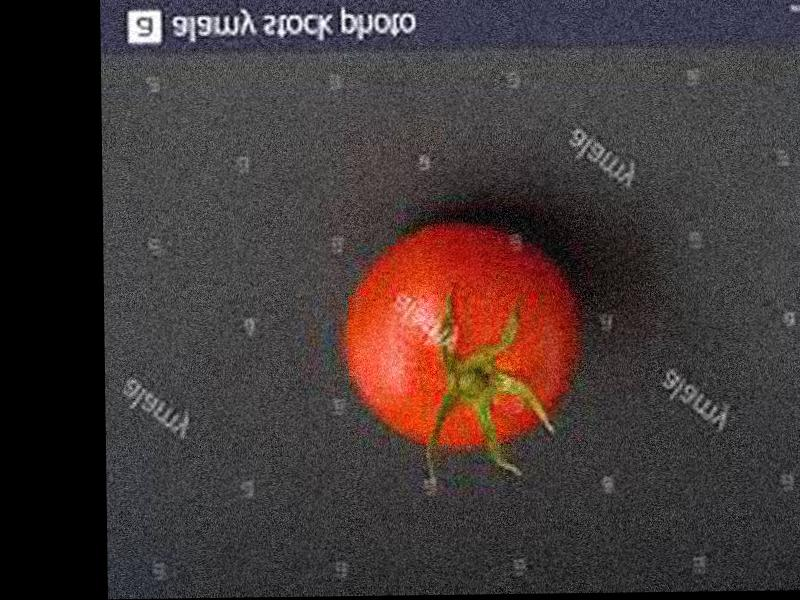Tomato: (341, 229, 582, 451)
